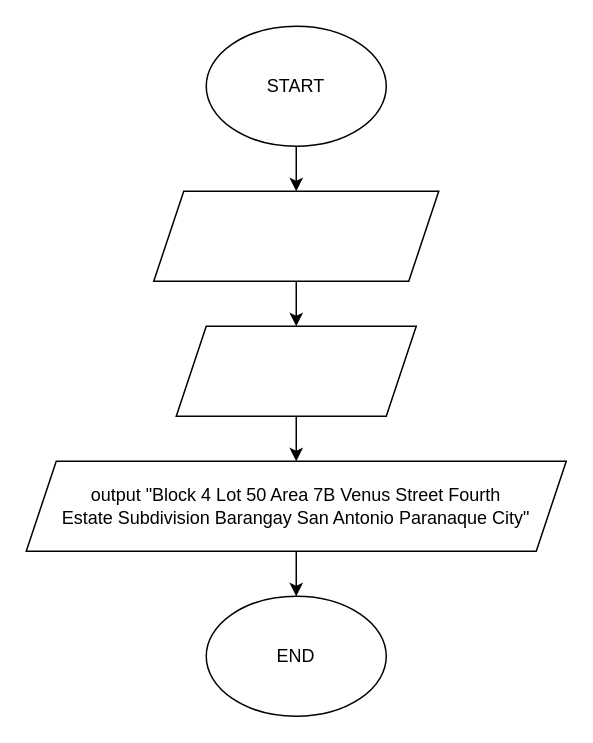
Some shapes in this 593 by 743 pixel diagram are drawn without their labels. Each missing label, with the centre of its shape:
output "18 years old": point 295,370
output "Ashley D. Entrada": point 295,235
